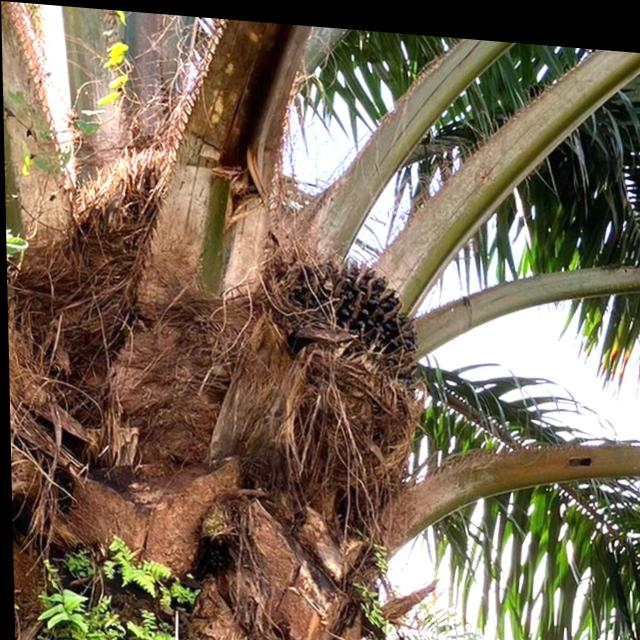unripe: (257, 236, 430, 421)
